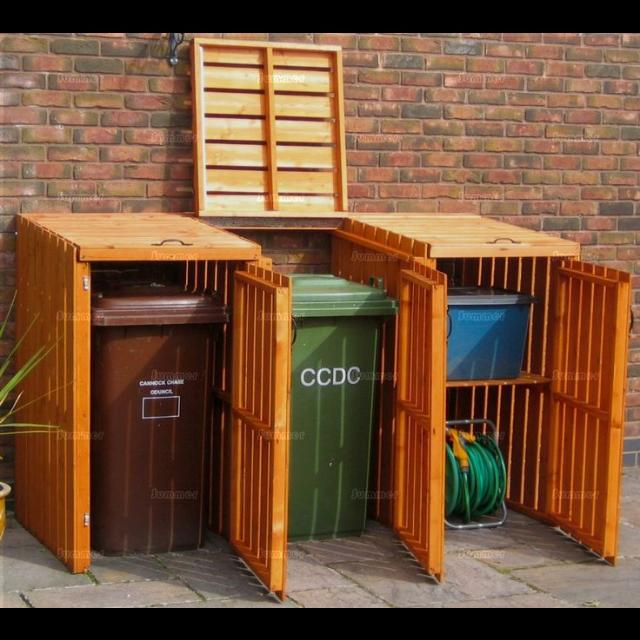Trash_Can_Closed: (92, 275, 233, 554), (282, 272, 400, 538)
